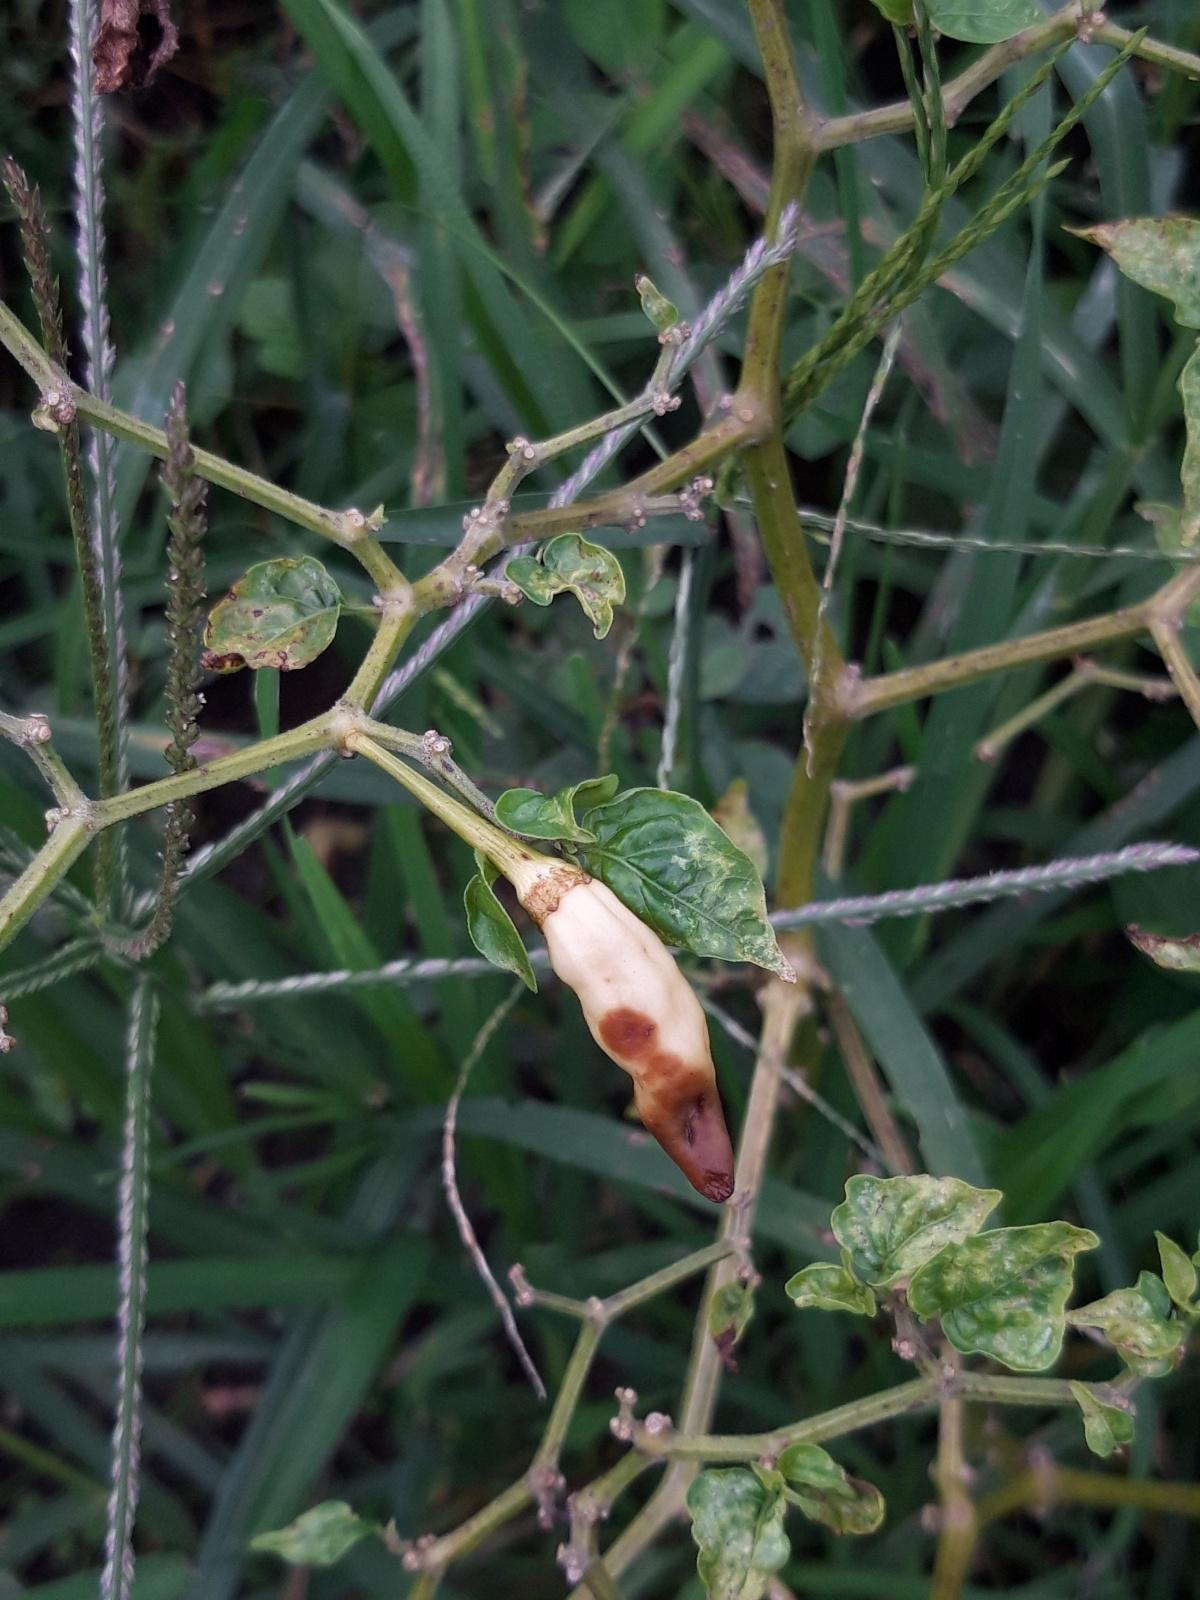lalat_buah: (513, 844, 737, 1202)
